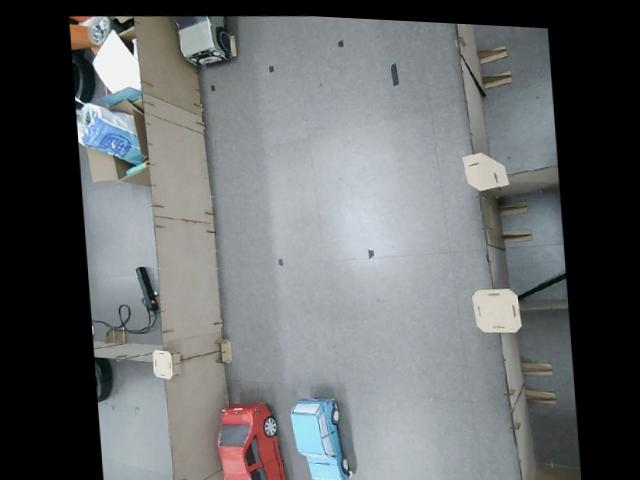car: (211, 396, 291, 480), (287, 396, 351, 480), (171, 13, 230, 67)
